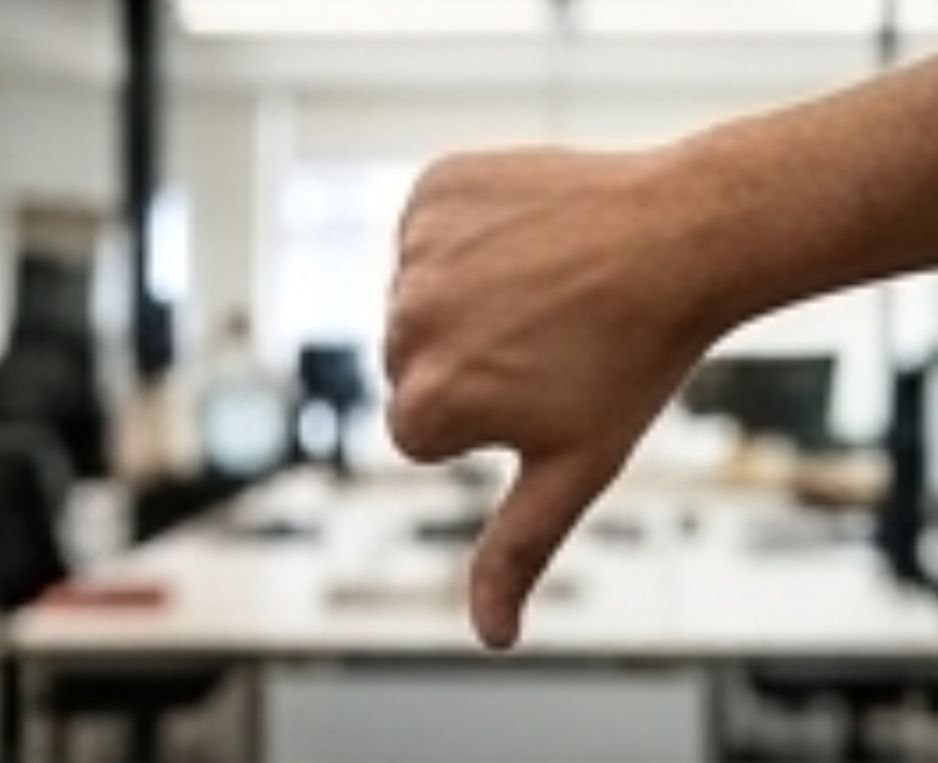Thumbs down: (380, 123, 675, 690)
